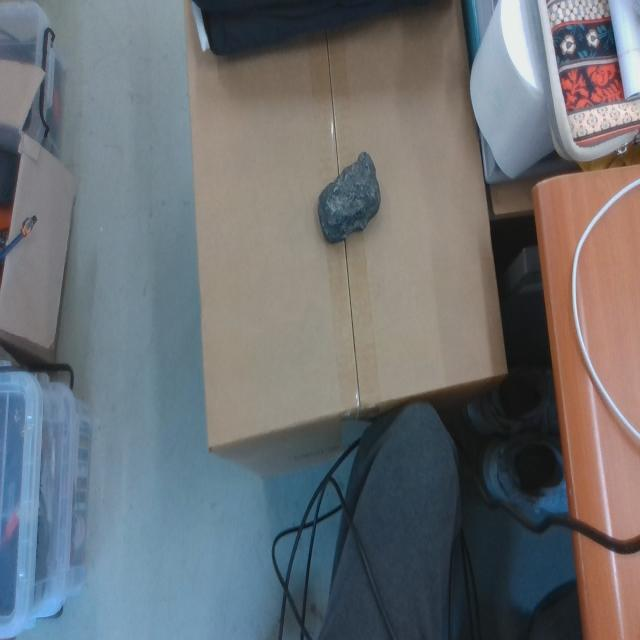stone: (317, 151, 381, 244)
